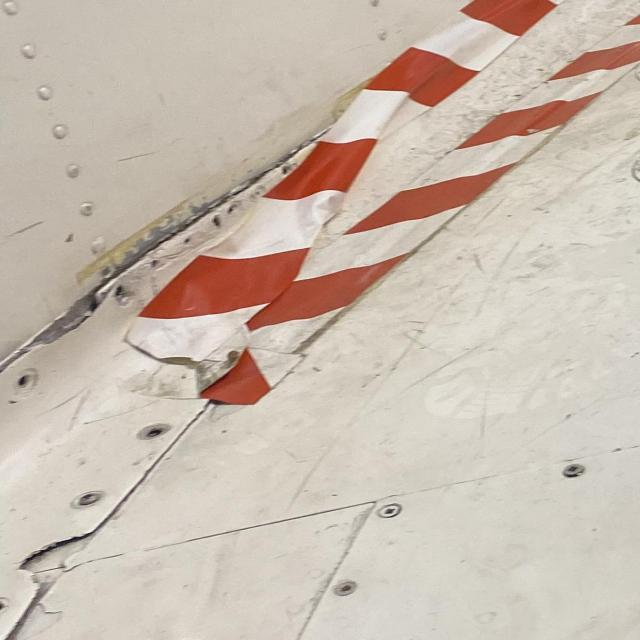Crack: (116, 157, 284, 280), (10, 269, 117, 357), (18, 536, 84, 589)
Missing-head: (133, 424, 168, 441), (10, 370, 34, 392)
Paint-off: (3, 605, 59, 640)
